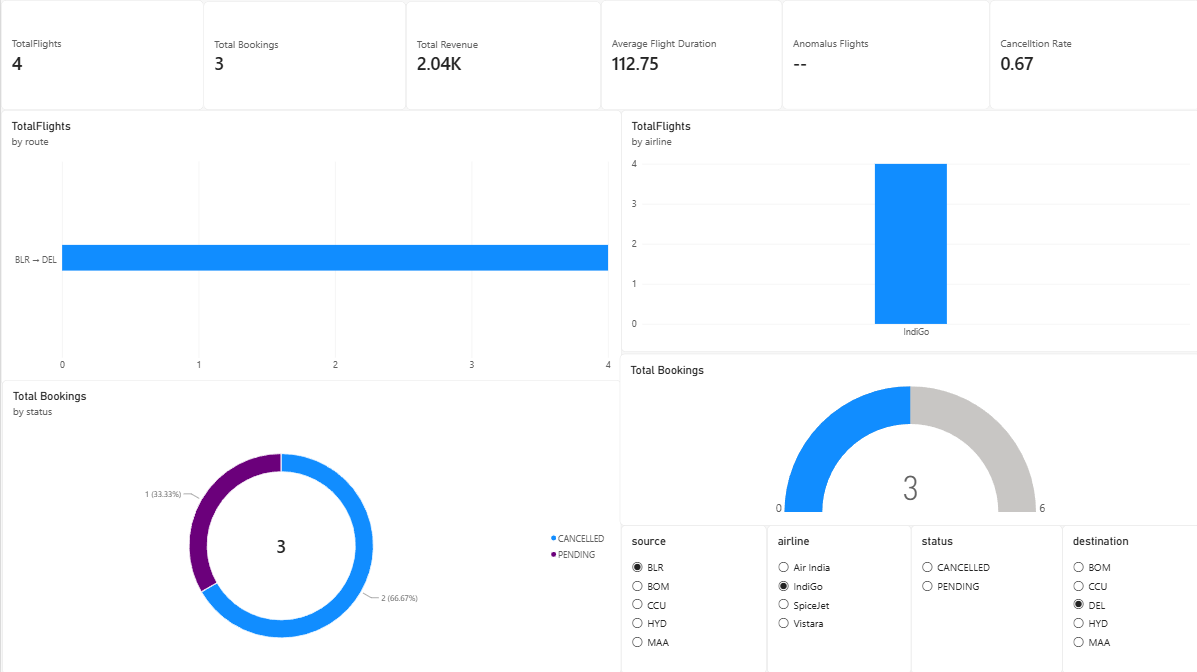

This screenshot's page, from the dashboard's own definition file:
{"tool":"powerbi","page":{"name":"Overview","canvas":[1920,1080],"ordinal":0},"visuals":[{"type":"cardVisual","fields":{"Data":["bookings.TotalFlights"]},"box":[0,0,324,176],"z":0},{"type":"cardVisual","fields":{"Data":["bookings.Total Bookings"]},"box":[324,2,324,174],"z":1000},{"type":"cardVisual","fields":{"Data":["bookings.Total Revenue"]},"box":[648,2,312,174],"z":2000},{"type":"cardVisual","fields":{"Data":["bookings.Average Flight Duration"]},"box":[960,0,290,176],"z":3000},{"type":"cardVisual","fields":{"Data":["bookings.Cancelltion Rate"]},"box":[1582.5,0,337.5,175],"z":4000},{"type":"cardVisual","fields":{"Data":["bookings.Anomalus Flights"]},"box":[1250,0,332.5,175],"z":5000},{"type":"clusteredColumnChart","fields":{"Category":["flights.airline"],"Y":["bookings.TotalFlights"]},"box":[992.5,175,927.5,387.5],"z":6000},{"type":"barChart","fields":{"Category":["flights.route"],"Y":["bookings.TotalFlights"]},"box":[0,175,992.5,440],"z":7000},{"type":"donutChart","fields":{"Category":["bookings.status"],"Y":["bookings.Total Bookings"]},"box":[2.5,607.5,990,472.5],"z":8000},{"type":"listSlicer","fields":{"Values":["flights.airline"]},"box":[1225,840,230,240],"z":9000},{"type":"listSlicer","fields":{"Values":["flights.source"]},"box":[992.5,840,232.5,240],"z":10000},{"type":"listSlicer","fields":{"Values":["flights.destination"]},"box":[1697.5,840,222.5,240],"z":11000},{"type":"listSlicer","fields":{"Values":["bookings.status"]},"box":[1455,840,242.5,240],"z":12000},{"type":"gauge","fields":{"Y":["bookings.Total Bookings"]},"box":[990,565,930,275],"z":13000}]}

Visuals, with their boxes in screenshot pixels (x1, y1, x2, y2), scaled from the page's 1920x1080 canvas onto the 1197x672 screenshot:
cardVisual - bookings.TotalFlights: 0/0/202/110
cardVisual - bookings.Total Bookings: 202/1/404/110
cardVisual - bookings.Total Revenue: 404/1/598/110
cardVisual - bookings.Average Flight Duration: 598/0/779/110
cardVisual - bookings.Cancelltion Rate: 987/0/1196/109
cardVisual - bookings.Anomalus Flights: 779/0/987/109
clusteredColumnChart - flights.airline x bookings.TotalFlights: 619/109/1196/350
barChart - flights.route x bookings.TotalFlights: 0/109/619/383
donutChart - bookings.status x bookings.Total Bookings: 2/378/619/671
listSlicer - flights.airline: 764/523/907/671
listSlicer - flights.source: 619/523/764/671
listSlicer - flights.destination: 1058/523/1196/671
listSlicer - bookings.status: 907/523/1058/671
gauge - bookings.Total Bookings: 617/352/1196/523
